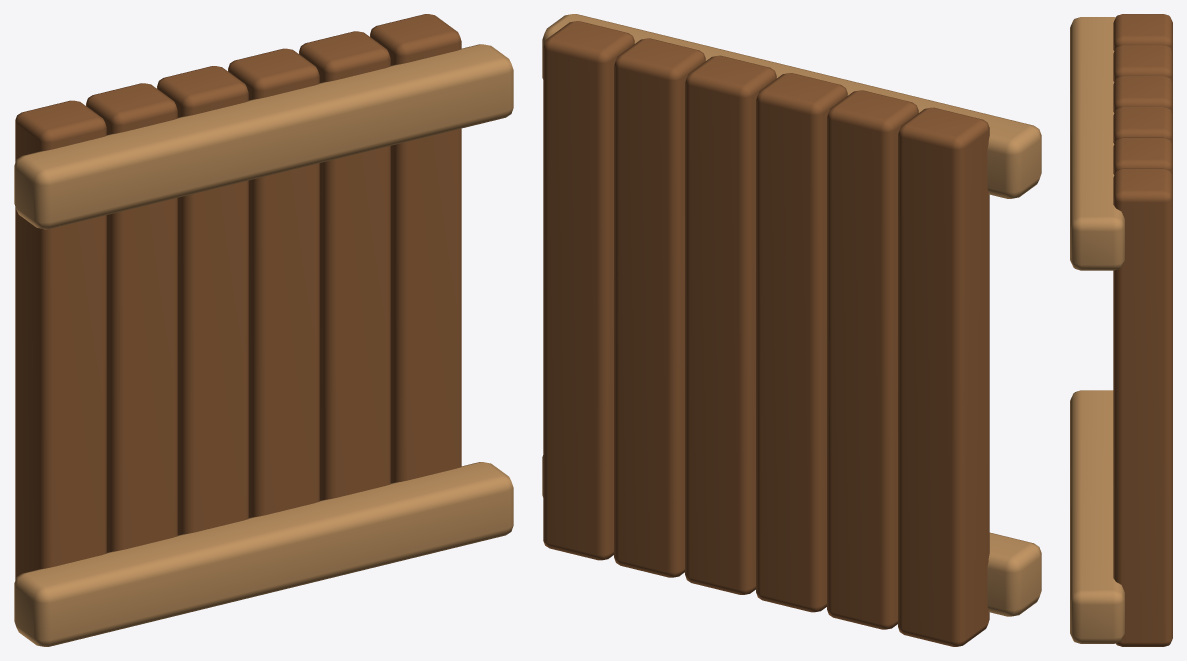
File: NJD-14.glb
The picture shows the model from 3 angles, left to right: view 1: azimuth 30°, elevation 25°; view 2: azimuth 150°, elevation 25°; view 3: azimuth 270°, elevation 25°; orthographic projection. The views are drawn at different scales.
Parts seen in each view (by area): view 1: frame crossbar.001, frame crossbar, cedar plank, cedar plank.002, cedar plank.004, cedar plank.003, cedar plank.005, cedar plank.001; view 2: cedar plank, cedar plank.005, cedar plank.004, cedar plank.001, cedar plank.002, cedar plank.003, frame crossbar.001, frame crossbar; view 3: cedar plank.005, frame crossbar.001, frame crossbar, cedar plank.004, cedar plank.003, cedar plank, cedar plank.001, cedar plank.002.
Part boxes in pixels (x1,y1,x2,y2): frame crossbar.001: [14, 44, 513, 229]; frame crossbar: [14, 462, 513, 646]; cedar plank: [15, 100, 106, 579]; cedar plank.002: [157, 66, 248, 535]; cedar plank.004: [299, 31, 390, 500]; cedar plank.003: [228, 48, 319, 517]; cedar plank.005: [370, 14, 461, 483]; cedar plank.001: [86, 83, 177, 552]; cedar plank: [898, 107, 989, 646]; cedar plank.005: [543, 21, 634, 560]; cedar plank.004: [614, 38, 705, 577]; cedar plank.001: [827, 90, 918, 629]; cedar plank.002: [756, 73, 847, 612]; cedar plank.003: [685, 55, 776, 594]; frame crossbar.001: [542, 14, 1041, 198]; frame crossbar: [542, 455, 1041, 616]; cedar plank.005: [1113, 168, 1172, 646]; frame crossbar.001: [1070, 17, 1124, 270]; frame crossbar: [1070, 390, 1124, 643]; cedar plank.004: [1113, 137, 1172, 176]; cedar plank.003: [1113, 107, 1172, 145]; cedar plank: [1113, 14, 1172, 52]; cedar plank.001: [1113, 45, 1172, 83]; cedar plank.002: [1113, 76, 1172, 114].
Bounding box in the file's own units: 1.08 × 1.1 × 0.225.
